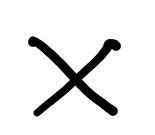mult: (28, 36, 118, 115)
